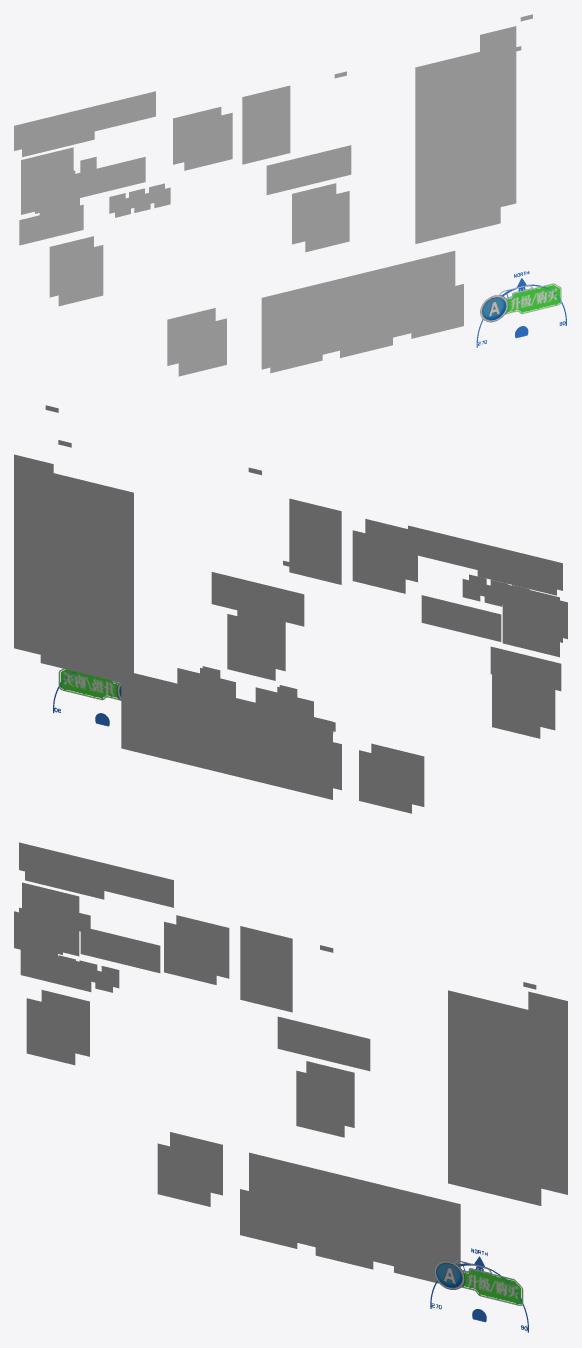
Rendered from tr-car_levelup.FBX.
3 renders of one model, top to bottom at view 1: azimuth 30°, elevation 25°; view 2: azimuth 150°, elevation 25°; view 3: azimuth 330°, elevation 25°, orthographic. The views are drawn at different scales.
Visible parts, largest first — view 1: tr_mo_mu_carlevel_box03 (×2), tr_mo_mu_carlevel_box04 (×2), tr_mo_mu_carlevel_squares, tr_mo_mu_carlevel_box05, tr_mo_mu_carlevel_box06, tr_mo_mu_carlevel_arrow_b04, tr_mo_mu_button_a002, tr_mo_mu_carlevel_arrow_b02, tr_mo_mu_carlevel_arrow_b03, tr_mo_mu_carlevel_arrow_b01, tr_mo_mu_carlevel_squares_a04, tr_mo_mu_carlevel_squares_a02 (+13 smaller); view 2: tr_mo_mu_carlevel_box03 (×2), tr_mo_mu_carlevel_squares, tr_mo_mu_carlevel_box05, tr_mo_mu_carlevel_box04 (×2), tr_mo_mu_carlevel_box06, tr_mo_mu_carlevel_cash, tr_mo_mu_carlevel_arrow_a01, tr_mo_mu_carlevel_arrow_a02, tr_mo_mu_carlevel_arrow_a03, tr_mo_mu_carlevel_arrow_a04, tr_mo_mu_carlevel_box02, tr_mo_mu_button_a002 (+7 smaller); view 3: tr_mo_mu_carlevel_box03 (×2), tr_mo_mu_carlevel_box04 (×2), tr_mo_mu_carlevel_box05, tr_mo_mu_carlevel_squares, tr_mo_mu_carlevel_box06, tr_mo_mu_carlevel_arrow_b04, tr_mo_mu_button_a002, tr_mo_mu_carlevel_arrow_b03, tr_mo_mu_carlevel_arrow_b02, tr_mo_mu_carlevel_arrow_b01, tr_mo_mu_carlevel_squares_a02, tr_mo_mu_carlevel_squares_a04 (+11 smaller).
Boxes of the visible parts, box(x1,y1,x2,y2) form: tr_mo_mu_carlevel_box03 (×2): box(19, 46, 500, 245); tr_mo_mu_carlevel_box04 (×2): box(21, 85, 290, 214); tr_mo_mu_carlevel_squares: box(261, 251, 455, 369); tr_mo_mu_carlevel_box05: box(480, 26, 516, 206); tr_mo_mu_carlevel_box06: box(14, 91, 155, 150); tr_mo_mu_carlevel_arrow_b04: box(58, 245, 103, 306); tr_mo_mu_button_a002: box(476, 271, 566, 347); tr_mo_mu_carlevel_arrow_b02: box(305, 191, 349, 252); tr_mo_mu_carlevel_arrow_b03: box(178, 318, 226, 376); tr_mo_mu_carlevel_arrow_b01: box(184, 112, 232, 170); tr_mo_mu_carlevel_squares_a04: box(384, 274, 437, 331); tr_mo_mu_carlevel_squares_a02: box(313, 291, 366, 348); tr_mo_mu_carlevel_box03 (×2): box(40, 473, 561, 691); tr_mo_mu_carlevel_squares: box(121, 673, 332, 799); tr_mo_mu_carlevel_box05: box(14, 454, 53, 657); tr_mo_mu_carlevel_box04 (×2): box(289, 498, 559, 657); tr_mo_mu_carlevel_box06: box(408, 525, 562, 590); tr_mo_mu_carlevel_cash: box(211, 572, 304, 626); tr_mo_mu_carlevel_arrow_a01: box(352, 530, 405, 593); tr_mo_mu_carlevel_arrow_a02: box(227, 614, 275, 680); tr_mo_mu_carlevel_arrow_a03: box(359, 750, 411, 813); tr_mo_mu_carlevel_arrow_a04: box(492, 674, 540, 738); tr_mo_mu_carlevel_box02: box(421, 595, 501, 641); tr_mo_mu_button_a002: box(53, 668, 121, 726); tr_mo_mu_carlevel_box03 (×2): box(20, 950, 541, 1205); tr_mo_mu_carlevel_box04 (×2): box(22, 882, 292, 1012); tr_mo_mu_carlevel_box05: box(528, 991, 567, 1194); tr_mo_mu_carlevel_squares: box(249, 1152, 460, 1267); tr_mo_mu_carlevel_box06: box(19, 842, 173, 907); tr_mo_mu_carlevel_arrow_b04: box(26, 998, 75, 1065); tr_mo_mu_button_a002: box(430, 1248, 528, 1332); tr_mo_mu_carlevel_arrow_b03: box(157, 1143, 210, 1206); tr_mo_mu_carlevel_arrow_b02: box(296, 1070, 344, 1137); tr_mo_mu_carlevel_arrow_b01: box(164, 921, 216, 984); tr_mo_mu_carlevel_squares_a02: box(268, 1178, 326, 1240); tr_mo_mu_carlevel_squares_a04: box(346, 1197, 404, 1259).
Size of the model in its own units: 127 by 71.1 by 18.56.
